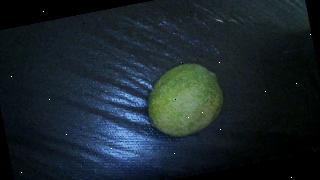DESECHO: (141, 58, 230, 142)
